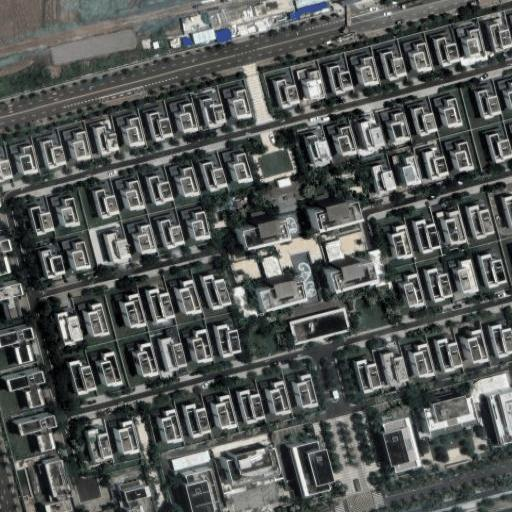building: (289, 307, 350, 345), (292, 442, 335, 495), (226, 446, 281, 486), (383, 418, 420, 473), (424, 396, 478, 432), (5, 371, 45, 409), (185, 470, 221, 512), (253, 276, 302, 306), (234, 215, 283, 245), (18, 415, 58, 451), (323, 257, 370, 287), (45, 461, 72, 512), (0, 328, 36, 366), (487, 392, 512, 446), (305, 196, 353, 224), (69, 359, 97, 395), (148, 287, 176, 323), (172, 448, 213, 472), (239, 389, 267, 424), (161, 336, 189, 371), (56, 310, 84, 345), (203, 274, 231, 309), (216, 323, 244, 357), (0, 282, 25, 320), (436, 338, 462, 372), (383, 351, 408, 386), (480, 254, 506, 287), (469, 204, 494, 238), (368, 249, 390, 287), (415, 219, 441, 251), (87, 428, 112, 461), (186, 404, 211, 436), (357, 360, 382, 392), (427, 268, 452, 300), (456, 260, 478, 293), (307, 135, 331, 165), (361, 120, 385, 150), (414, 106, 438, 136), (373, 165, 397, 195), (491, 324, 512, 358), (138, 343, 158, 378), (102, 352, 122, 387), (88, 303, 108, 338), (180, 280, 200, 315), (125, 293, 145, 328), (468, 329, 488, 364), (42, 140, 66, 169), (203, 162, 227, 191), (202, 97, 226, 126), (330, 65, 354, 94), (426, 151, 450, 180), (162, 410, 183, 443), (445, 211, 466, 244), (118, 421, 138, 455), (413, 344, 433, 378), (392, 225, 412, 259), (124, 486, 150, 512), (107, 233, 131, 261), (161, 220, 185, 248), (477, 89, 501, 117), (216, 395, 236, 428), (270, 382, 290, 415), (297, 374, 317, 407), (42, 251, 66, 278), (193, 329, 212, 363), (404, 274, 423, 308), (97, 127, 120, 155), (150, 113, 173, 141), (32, 206, 55, 234), (150, 175, 173, 203), (96, 190, 119, 217), (384, 52, 407, 79), (437, 38, 460, 65), (489, 134, 512, 161), (490, 24, 512, 51), (455, 141, 474, 172), (277, 80, 299, 106), (402, 156, 421, 186), (361, 56, 379, 87), (72, 241, 91, 270), (137, 224, 156, 253), (191, 211, 210, 240), (234, 152, 252, 182), (444, 98, 462, 128), (261, 254, 283, 278), (233, 90, 251, 119), (338, 126, 355, 156), (414, 42, 431, 72), (392, 112, 409, 142), (73, 132, 91, 160), (180, 103, 197, 132), (61, 198, 78, 227), (126, 181, 143, 210), (307, 70, 324, 99), (20, 146, 38, 173), (0, 238, 13, 275), (297, 1, 329, 16), (127, 118, 144, 146), (181, 168, 197, 197), (325, 240, 345, 263), (467, 29, 484, 56), (193, 28, 217, 44), (0, 160, 13, 183), (504, 195, 512, 228), (215, 28, 233, 42), (290, 11, 300, 21), (510, 82, 512, 91)
